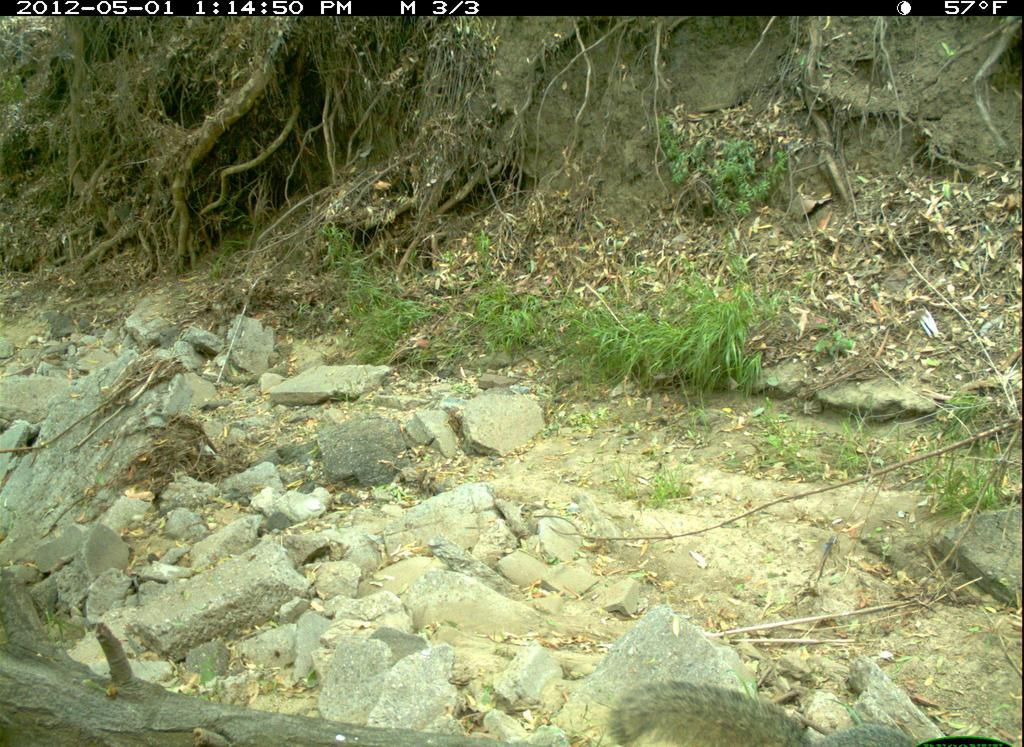squirrel: (571, 655, 929, 747)
